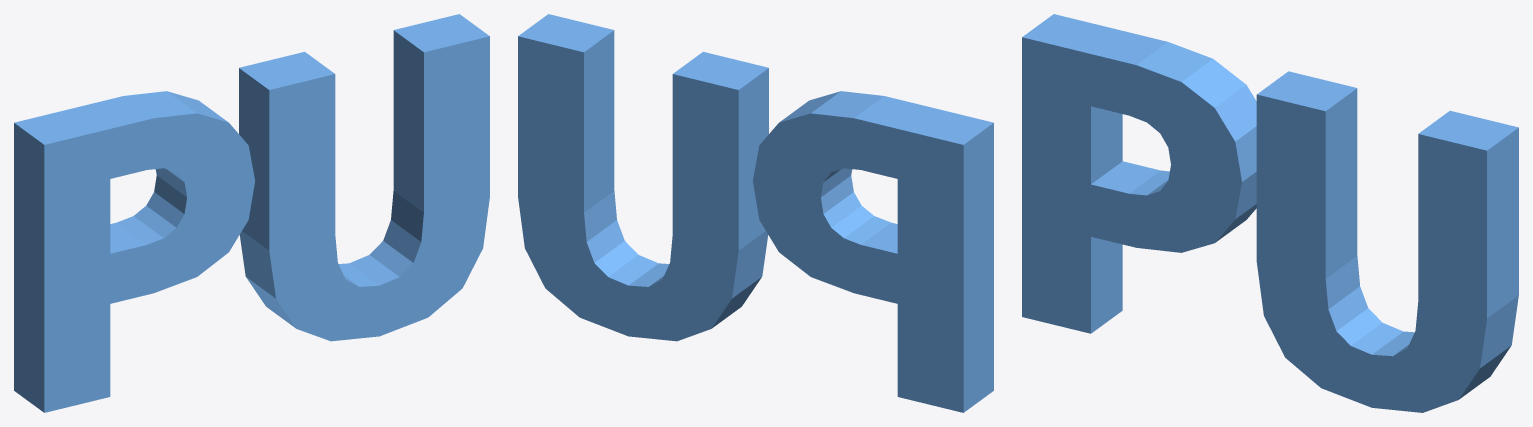
Rendered from suku_besar_pu.glb.
The picture shows the model from 3 angles, left to right: view 1: azimuth 30°, elevation 25°; view 2: azimuth 150°, elevation 25°; view 3: azimuth 330°, elevation 25°; orthographic projection. The views are drawn at different scales.
Visible parts, largest first — view 1: geometry_0; view 2: geometry_0; view 3: geometry_0.
Boxes of the visible parts, <box> form: geometry_0: <box>14,14,489,412</box>; geometry_0: <box>518,14,993,412</box>; geometry_0: <box>1022,14,1518,412</box>.
Size of the model in its own units: 12.68 by 7.43 by 1.5.
